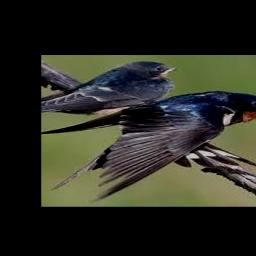Swallow: (41, 91, 256, 201), (41, 61, 175, 111)
